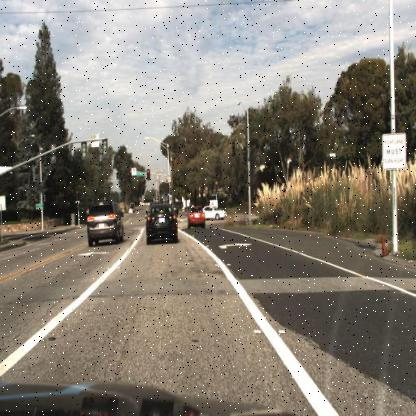car: (83, 200, 122, 249), (146, 202, 177, 243), (201, 200, 230, 223), (203, 204, 228, 220), (188, 204, 206, 226)
trafficLight-Red: (125, 166, 133, 184), (145, 165, 153, 182), (212, 174, 219, 193), (72, 184, 80, 200), (146, 166, 152, 182), (212, 179, 219, 192)
